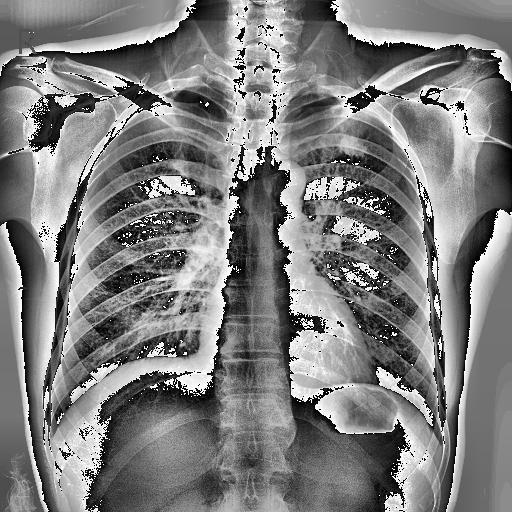11- Pleural thickening: (133, 88, 172, 120)
13- Pulmonary fibrosis: (328, 104, 372, 156)
8- Nodule-Mass: (338, 134, 368, 159), (338, 137, 367, 157), (339, 136, 367, 156)
9- Other lesion: (338, 134, 368, 159)
